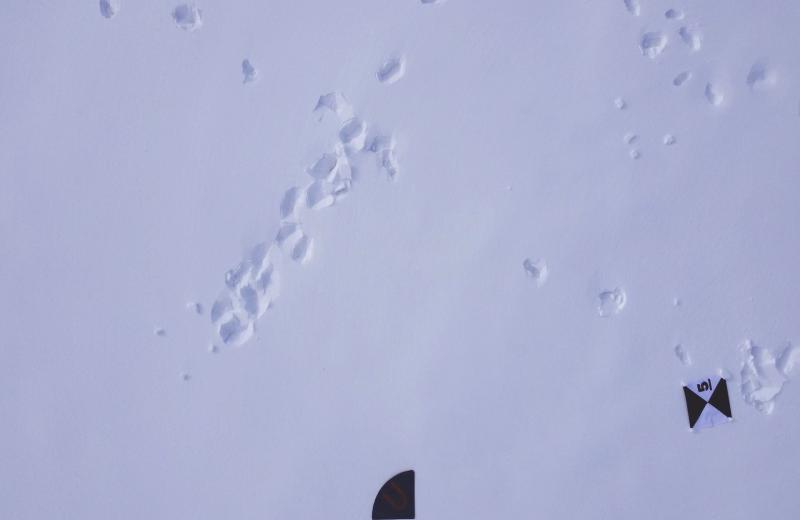Quarter Circle: (370, 468, 417, 520)
